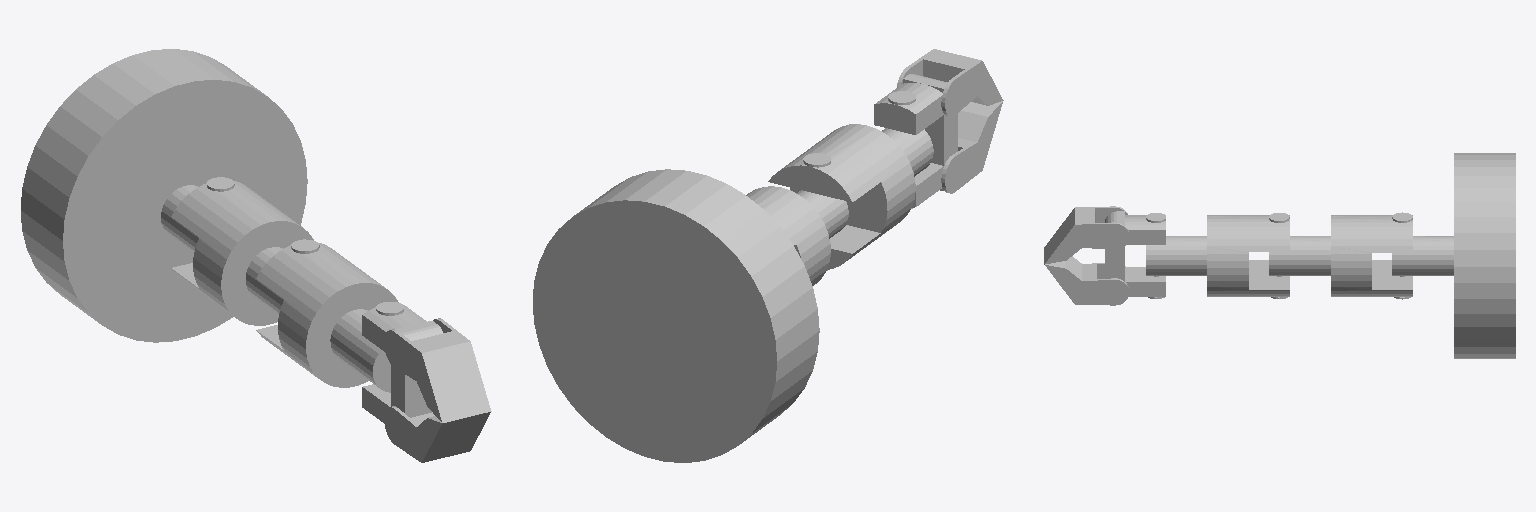
robot.urdf — Assem1:
<?xml version="1.0" encoding="utf-8"?>
<!-- This URDF was automatically created by SolidWorks to URDF Exporter! Originally created by [author] ([email redacted]) 
     Commit Version: 1.6.0-1-g15f4949  Build Version: 1.6.7594.29634
     For more information, please see http://wiki.ros.org/sw_urdf_exporter -->
<robot
  name="Assem1">
  <link
    name="base_link">
    <inertial>
      <origin
        xyz="-9.92684599515542E-19 4.57570702997826E-21 0.0148291018939651"
        rpy="0 0 0" />
      <mass
        value="0.231394006900156" />
      <inertia
        ixx="0.000164371863733277"
        ixy="-3.52321250294965E-36"
        ixz="-6.07528269402725E-22"
        iyy="0.000164371863733277"
        iyz="-1.80945408044066E-25"
        izz="0.000294221453888255" />
    </inertial>
    <visual>
      <origin
        xyz="0 0 0"
        rpy="0 0 0" />
      <geometry>
        <mesh
          filename="package://Assem1/meshes/base_link.STL" />
      </geometry>
      <material
        name="">
        <color
          rgba="0.8 0.8 0.8 1" />
      </material>
    </visual>
    <collision>
      <origin
        xyz="0 0 0"
        rpy="0 0 0" />
      <geometry>
        <mesh
          filename="package://Assem1/meshes/base_link.STL" />
      </geometry>
    </collision>
  </link>
  <link
    name="arm_link_1">
    <inertial>
      <origin
        xyz="-5.68861980528372E-09 -1.05708161679282E-08 0.0192485023804317"
        rpy="0 0 0" />
      <mass
        value="0.0142031538491731" />
      <inertia
        ixx="2.67269592155345E-06"
        ixy="-5.1888731822947E-13"
        ixz="1.10808800166006E-12"
        iyy="2.51633708683004E-06"
        iyz="1.24294740481014E-12"
        izz="9.33665546343041E-07" />
    </inertial>
    <visual>
      <origin
        xyz="0 0 0"
        rpy="0 0 0" />
      <geometry>
        <mesh
          filename="package://Assem1/meshes/arm_link_1.STL" />
      </geometry>
      <material
        name="">
        <color
          rgba="0.8 0.8 0.8 1" />
      </material>
    </visual>
    <collision>
      <origin
        xyz="0 0 0"
        rpy="0 0 0" />
      <geometry>
        <mesh
          filename="package://Assem1/meshes/arm_link_1.STL" />
      </geometry>
    </collision>
  </link>
  <joint
    name="arm_joint_1"
    type="revolute">
    <origin
      xyz="0 -0.02 0"
      rpy="1.5708 0 0" />
    <parent
      link="base_link" />
    <child
      link="arm_link_1" />
    <axis
      xyz="0 0 1" />
    <limit
      lower="-1.56"
      upper="1.56"
      effort="2"
      velocity="1" />
  </joint>
  <link
    name="arm_link_2">
    <inertial>
      <origin
        xyz="-1.4614836365988E-08 -6.52552317505073E-09 0.0182380340257854"
        rpy="0 0 0" />
      <mass
        value="0.0303431874514087" />
      <inertia
        ixx="6.3474115306898E-06"
        ixy="1.18095385347262E-12"
        ixz="-7.94949950175111E-12"
        iyy="7.64266462603414E-06"
        iyz="-2.78175308434976E-12"
        izz="7.2902980619988E-06" />
    </inertial>
    <visual>
      <origin
        xyz="0 0 0"
        rpy="0 0 0" />
      <geometry>
        <mesh
          filename="package://Assem1/meshes/arm_link_2.STL" />
      </geometry>
      <material
        name="">
        <color
          rgba="0.8 0.8 0.8 1" />
      </material>
    </visual>
    <collision>
      <origin
        xyz="0 0 0"
        rpy="0 0 0" />
      <geometry>
        <mesh
          filename="package://Assem1/meshes/arm_link_2.STL" />
      </geometry>
    </collision>
  </link>
  <joint
    name="arm_joint_2"
    type="revolute">
    <origin
      xyz="0 0 0.035"
      rpy="0 0 1.5708" />
    <parent
      link="arm_link_1" />
    <child
      link="arm_link_2" />
    <axis
      xyz="1 0 0" />
    <limit
      lower="-1.56"
      upper="1.56"
      effort="2"
      velocity="1" />
  </joint>
  <link
    name="arm_link_3">
    <inertial>
      <origin
        xyz="-5.68861983599515E-09 -1.05708161803937E-08 0.0192485023804317"
        rpy="0 0 0" />
      <mass
        value="0.0142031538491731" />
      <inertia
        ixx="2.67269592155345E-06"
        ixy="-5.18887318267597E-13"
        ixz="1.10808800174253E-12"
        iyy="2.51633708683004E-06"
        iyz="1.24294740491847E-12"
        izz="9.3366554634304E-07" />
    </inertial>
    <visual>
      <origin
        xyz="0 0 0"
        rpy="0 0 0" />
      <geometry>
        <mesh
          filename="package://Assem1/meshes/arm_link_3.STL" />
      </geometry>
      <material
        name="">
        <color
          rgba="0.8 0.8 0.8 1" />
      </material>
    </visual>
    <collision>
      <origin
        xyz="0 0 0"
        rpy="0 0 0" />
      <geometry>
        <mesh
          filename="package://Assem1/meshes/arm_link_3.STL" />
      </geometry>
    </collision>
  </link>
  <joint
    name="arm_joint_3"
    type="revolute">
    <origin
      xyz="0 0 0.025"
      rpy="0 0 -1.5708" />
    <parent
      link="arm_link_2" />
    <child
      link="arm_link_3" />
    <axis
      xyz="0 0 1" />
    <limit
      lower="-1.56"
      upper="1.56"
      effort="2"
      velocity="1" />
  </joint>
  <link
    name="arm_link_4">
    <inertial>
      <origin
        xyz="-1.46148352970304E-08 -6.5255229436343E-09 0.0182380340257854"
        rpy="0 0 0" />
      <mass
        value="0.0303431874514087" />
      <inertia
        ixx="6.34741153068981E-06"
        ixy="1.18095384946575E-12"
        ixz="-7.94949947670813E-12"
        iyy="7.64266462605011E-06"
        iyz="-2.78175308455347E-12"
        izz="7.29029806201477E-06" />
    </inertial>
    <visual>
      <origin
        xyz="0 0 0"
        rpy="0 0 0" />
      <geometry>
        <mesh
          filename="package://Assem1/meshes/arm_link_4.STL" />
      </geometry>
      <material
        name="">
        <color
          rgba="0.8 0.8 0.8 1" />
      </material>
    </visual>
    <collision>
      <origin
        xyz="0 0 0"
        rpy="0 0 0" />
      <geometry>
        <mesh
          filename="package://Assem1/meshes/arm_link_4.STL" />
      </geometry>
    </collision>
  </link>
  <joint
    name="arm_joint_4"
    type="revolute">
    <origin
      xyz="0 0 0.035"
      rpy="0 0 1.5708" />
    <parent
      link="arm_link_3" />
    <child
      link="arm_link_4" />
    <axis
      xyz="1 0 0" />
    <limit
      lower="-1.56"
      upper="1.56"
      effort="2"
      velocity="1" />
  </joint>
  <link
    name="arm_link_5">
    <inertial>
      <origin
        xyz="-5.6886197961097E-09 -1.05708161571528E-08 0.0192485023804317"
        rpy="0 0 0" />
      <mass
        value="0.0142031538491731" />
      <inertia
        ixx="2.67269592155345E-06"
        ixy="-5.188873182112E-13"
        ixz="1.10808800161906E-12"
        iyy="2.51633708683004E-06"
        iyz="1.24294740461156E-12"
        izz="9.3366554634304E-07" />
    </inertial>
    <visual>
      <origin
        xyz="0 0 0"
        rpy="0 0 0" />
      <geometry>
        <mesh
          filename="package://Assem1/meshes/arm_link_5.STL" />
      </geometry>
      <material
        name="">
        <color
          rgba="0.8 0.8 0.8 1" />
      </material>
    </visual>
    <collision>
      <origin
        xyz="0 0 0"
        rpy="0 0 0" />
      <geometry>
        <mesh
          filename="package://Assem1/meshes/arm_link_5.STL" />
      </geometry>
    </collision>
  </link>
  <joint
    name="arm_joint_5"
    type="revolute">
    <origin
      xyz="0 0 0.025"
      rpy="0 0 -1.5708" />
    <parent
      link="arm_link_4" />
    <child
      link="arm_link_5" />
    <axis
      xyz="0 0 1" />
    <limit
      lower="-1.56"
      upper="1.56"
      effort="2"
      velocity="1" />
  </joint>
  <link
    name="arm_link_6">
    <inertial>
      <origin
        xyz="8.03981923490026E-09 -2.16760773560567E-08 0.0124505277198323"
        rpy="0 0 0" />
      <mass
        value="0.0117650016345555" />
      <inertia
        ixx="1.15732178953453E-06"
        ixy="1.72850260377272E-13"
        ixz="6.32110905935154E-13"
        iyy="2.87122077562552E-06"
        iyz="-2.52865899954145E-12"
        izz="2.2860769719227E-06" />
    </inertial>
    <visual>
      <origin
        xyz="0 0 0"
        rpy="0 0 0" />
      <geometry>
        <mesh
          filename="package://Assem1/meshes/arm_link_6.STL" />
      </geometry>
      <material
        name="">
        <color
          rgba="0.8 0.8 0.8 1" />
      </material>
    </visual>
    <collision>
      <origin
        xyz="0 0 0"
        rpy="0 0 0" />
      <geometry>
        <mesh
          filename="package://Assem1/meshes/arm_link_6.STL" />
      </geometry>
    </collision>
  </link>
  <joint
    name="arm_joint_6"
    type="revolute">
    <origin
      xyz="0 0 0.035"
      rpy="0 0 -1.5708" />
    <parent
      link="arm_link_5" />
    <child
      link="arm_link_6" />
    <axis
      xyz="1 0 0" />
    <limit
      lower="-1.56"
      upper="1.56"
      effort="2"
      velocity="1" />
  </joint>
  <link
    name="finger_1">
    <inertial>
      <origin
        xyz="-0.00162040456220153 0.0169262207376764 -8.19878250375246E-16"
        rpy="0 0 0" />
      <mass
        value="0.00633906704359023" />
      <inertia
        ixx="7.39090867848726E-07"
        ixy="1.4577371624417E-07"
        ixz="9.30210336374036E-24"
        iyy="3.94477630513247E-07"
        iyz="-1.80787063690954E-22"
        izz="6.53413408624237E-07" />
    </inertial>
    <visual>
      <origin
        xyz="0 0 0"
        rpy="0 0 0" />
      <geometry>
        <mesh
          filename="package://Assem1/meshes/finger_1.STL" />
      </geometry>
      <material
        name="">
        <color
          rgba="0.8 0.8 0.8 1" />
      </material>
    </visual>
    <collision>
      <origin
        xyz="0 0 0"
        rpy="0 0 0" />
      <geometry>
        <mesh
          filename="package://Assem1/meshes/finger_1.STL" />
      </geometry>
    </collision>
  </link>
  <joint
    name="finger_1_joint"
    type="revolute">
    <origin
      xyz="0.015 0 0.02"
      rpy="1.5708 -0.070924 0" />
    <parent
      link="arm_link_6" />
    <child
      link="finger_1" />
    <axis
      xyz="0 0 1" />
    <limit
      lower="0"
      upper="0"
      effort="2"
      velocity="0" />
  </joint>
  <link
    name="finger_2">
    <inertial>
      <origin
        xyz="-0.00162040456220148 0.0169262207376764 1.15710250415343E-15"
        rpy="0 0 0" />
      <mass
        value="0.00633906704359023" />
      <inertia
        ixx="7.39090867848728E-07"
        ixy="1.4577371624417E-07"
        ixz="2.29096323418868E-23"
        iyy="3.94477630513248E-07"
        iyz="-3.19609775808172E-22"
        izz="6.53413408624239E-07" />
    </inertial>
    <visual>
      <origin
        xyz="0 0 0"
        rpy="0 0 0" />
      <geometry>
        <mesh
          filename="package://Assem1/meshes/finger_2.STL" />
      </geometry>
      <material
        name="">
        <color
          rgba="0.8 0.8 0.8 1" />
      </material>
    </visual>
    <collision>
      <origin
        xyz="0 0 0"
        rpy="0 0 0" />
      <geometry>
        <mesh
          filename="package://Assem1/meshes/finger_2.STL" />
      </geometry>
    </collision>
  </link>
  <joint
    name="finger_2_joint"
    type="revolute">
    <origin
      xyz="-0.015 0 0.02"
      rpy="1.5708 -0.070924 3.1416" />
    <parent
      link="arm_link_6" />
    <child
      link="finger_2" />
    <axis
      xyz="0 0 1" />
    <limit
      lower="0"
      upper="0"
      effort="2"
      velocity="0" />
  </joint>
</robot>

--- Facts derived from the render (not from the file) ---
Views: 3 orthographic renders of the robot side by side, from view 1: azimuth 30°, elevation 25°; view 2: azimuth 150°, elevation 25°; view 3: azimuth 270°, elevation 25°.
Robot: Assem1 — 9 links, 8 joints (8 revolute); root link base_link; default pose: all joints at 0.
Visible links, largest first — view 1: base_link, arm_link_4, arm_link_2, finger_2, arm_link_6, finger_1, arm_link_5, arm_link_3, arm_link_1; view 2: base_link, arm_link_4, arm_link_6, arm_link_2, finger_2, finger_1, arm_link_5, arm_link_3; view 3: base_link, arm_link_4, arm_link_2, finger_2, arm_link_6, finger_1, arm_link_5, arm_link_3, arm_link_1.
Boxes of the visible links, x1,y1,x2,y2 form: base_link: (21,49,307,342); arm_link_4: (256,243,398,387); arm_link_2: (171,181,313,325); finger_2: (384,318,491,422); arm_link_6: (362,304,442,422); finger_1: (384,406,490,462); arm_link_5: (330,302,403,392); arm_link_3: (246,239,319,313); arm_link_1: (161,177,234,251); base_link: (533,169,819,462); arm_link_4: (768,124,915,269); arm_link_6: (874,74,957,207); arm_link_2: (746,186,830,285); finger_2: (897,49,1002,116); finger_1: (941,100,1003,193); arm_link_5: (882,91,933,208); arm_link_3: (796,153,848,270); base_link: (1454,153,1515,358); arm_link_4: (1207,215,1289,296); arm_link_2: (1331,215,1412,296); finger_2: (1044,206,1128,264); arm_link_6: (1105,211,1165,296); finger_1: (1045,256,1128,305); arm_link_5: (1146,213,1206,298); arm_link_3: (1269,213,1330,298); arm_link_1: (1392,212,1453,299).
Bounding box of the posed robot: 0.1 × 0.2294 × 0.0997 m (x, y, z).
Meshes: 9 distinct files referenced, 9 mesh visuals loaded (9 binary STL).
